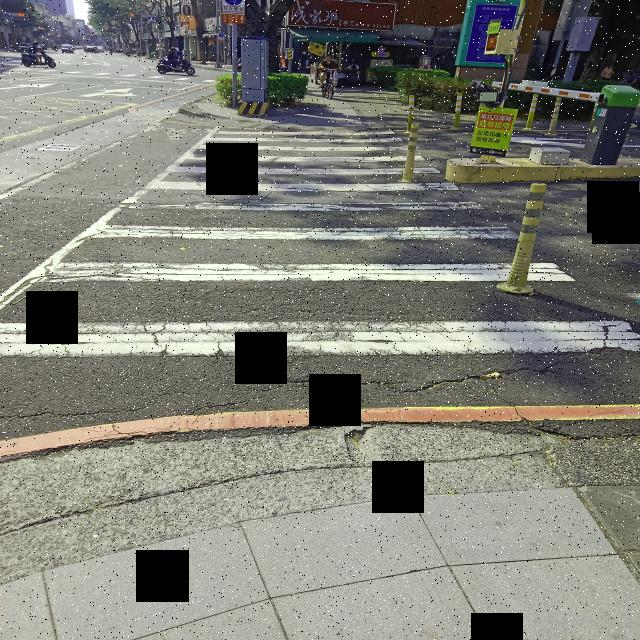person: (318, 55, 340, 96)
zebra crossing: (0, 131, 637, 361), (1, 66, 215, 85)
